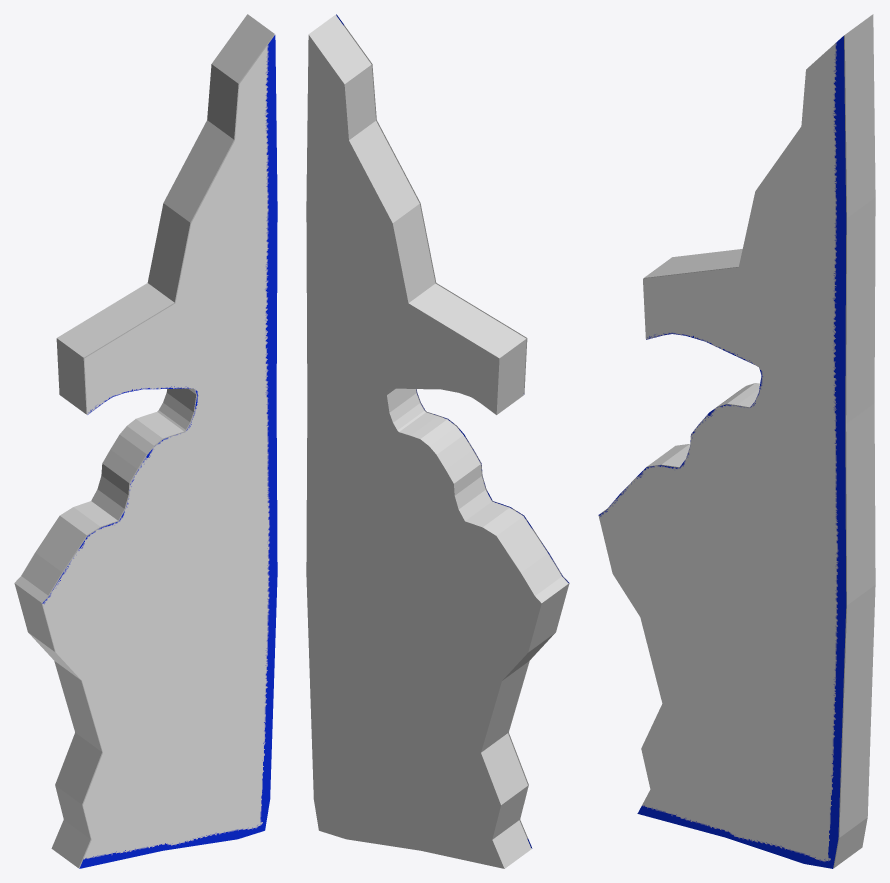
3 views of the same model, side by side, from view 1: azimuth 30°, elevation 25°; view 2: azimuth 150°, elevation 25°; view 3: azimuth 330°, elevation 25° (orthographic). The views are drawn at different scales.
Visible parts, largest first — view 1: Out_3_1, Out_3_0; view 2: Out_3_0, Out_3_1; view 3: Out_3_1, Out_3_0.
Boxes of the visible parts, bbox=[...] form: Out_3_1: bbox=[42, 35, 277, 868]; Out_3_0: bbox=[14, 14, 274, 868]; Out_3_0: bbox=[306, 15, 568, 868]; Out_3_1: bbox=[336, 14, 569, 848]; Out_3_1: bbox=[598, 36, 846, 868]; Out_3_0: bbox=[600, 14, 875, 868].
Bounding box in the file's own units: 2.51 × 8.12 × 0.515.
2 materials, 1 textured.
